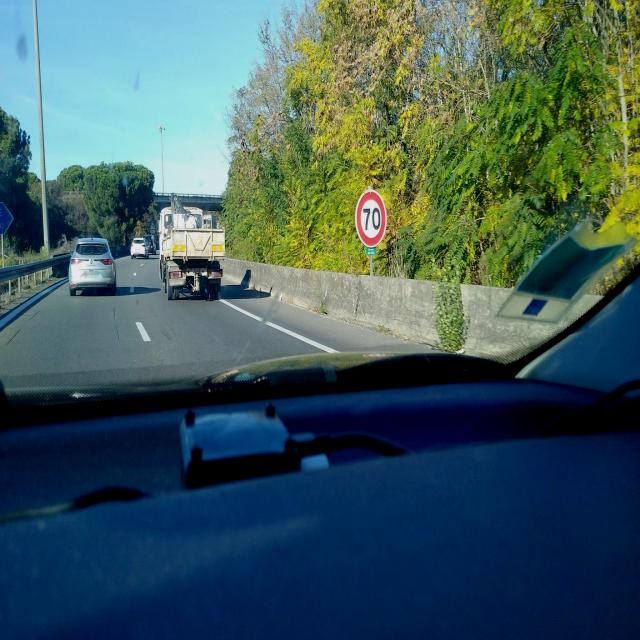car: (68, 236, 117, 296), (130, 236, 148, 260), (142, 235, 156, 255)
